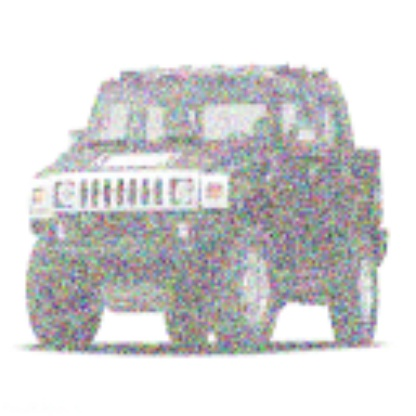Vehicle: (29, 66, 390, 355)
